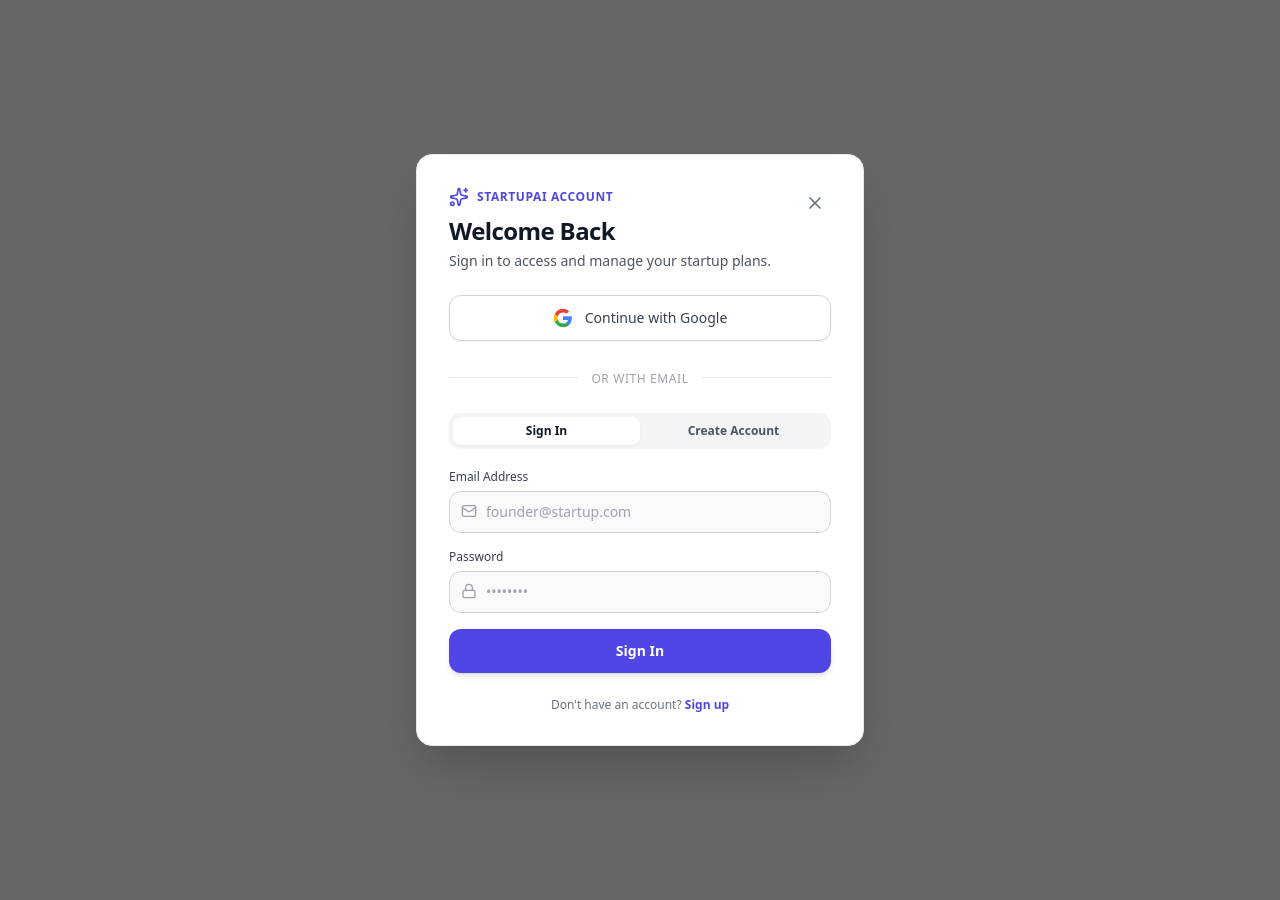
Test: AuthModal Component › displays validation error if email is invalid
Type "invalid-email" into the field labelled "Email Address". click: (640, 512)
box: top-left (449, 491), bottom-right (831, 533)
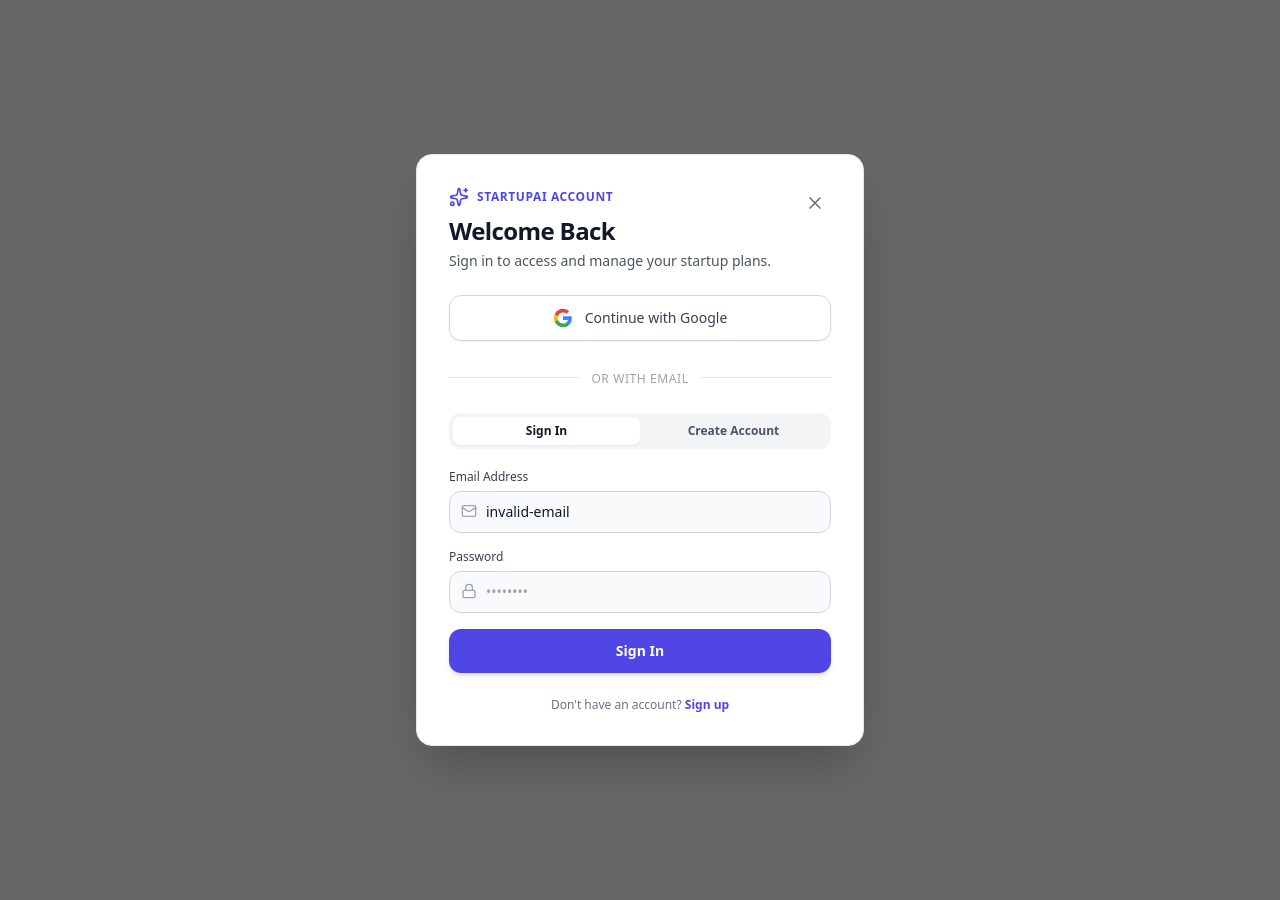
Type "12345678" into the password field labelled "Password". click: (640, 592)
box: top-left (449, 571), bottom-right (831, 613)
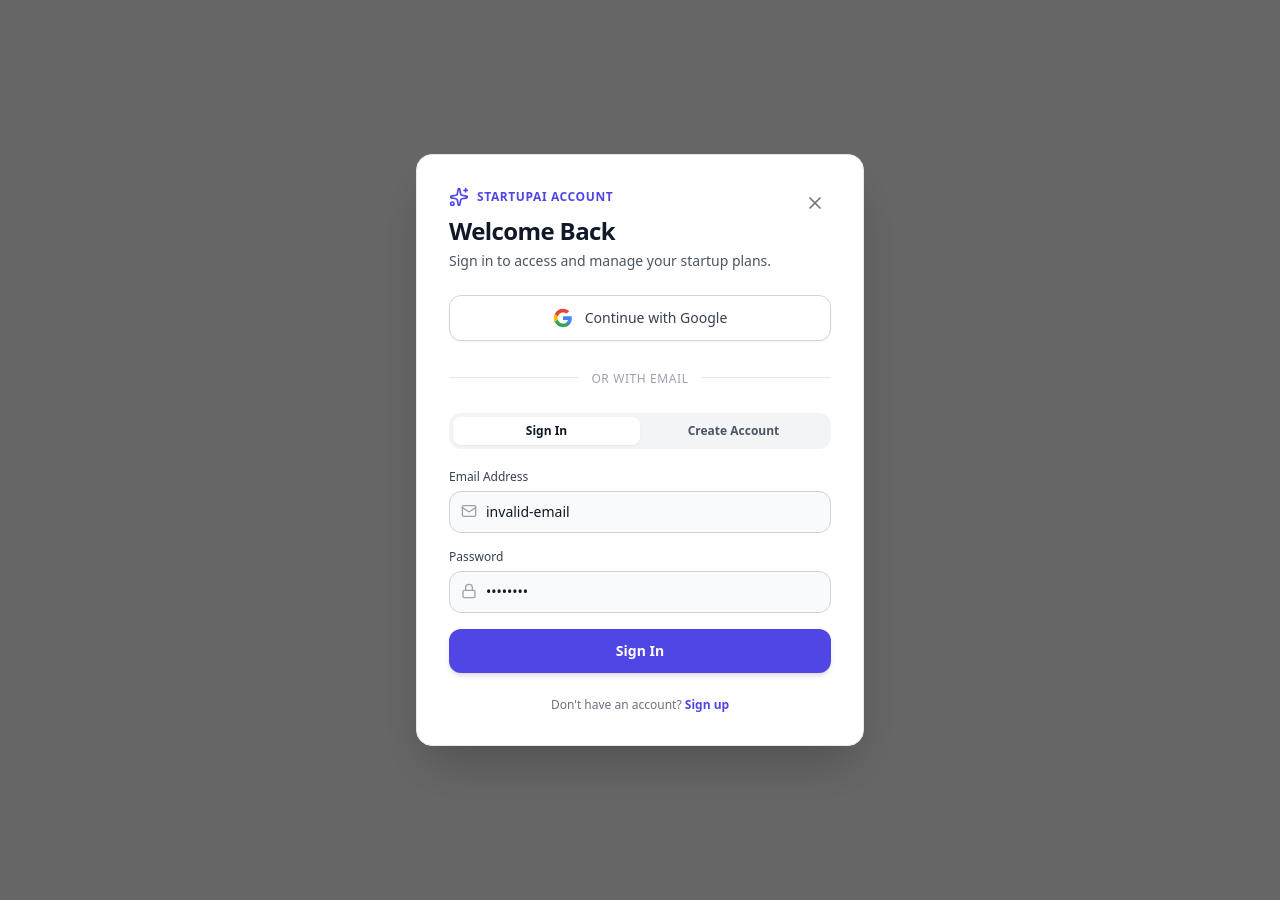
Click the button with test id "auth-submit-btn". click: (640, 651)
box: top-left (449, 629), bottom-right (831, 673)
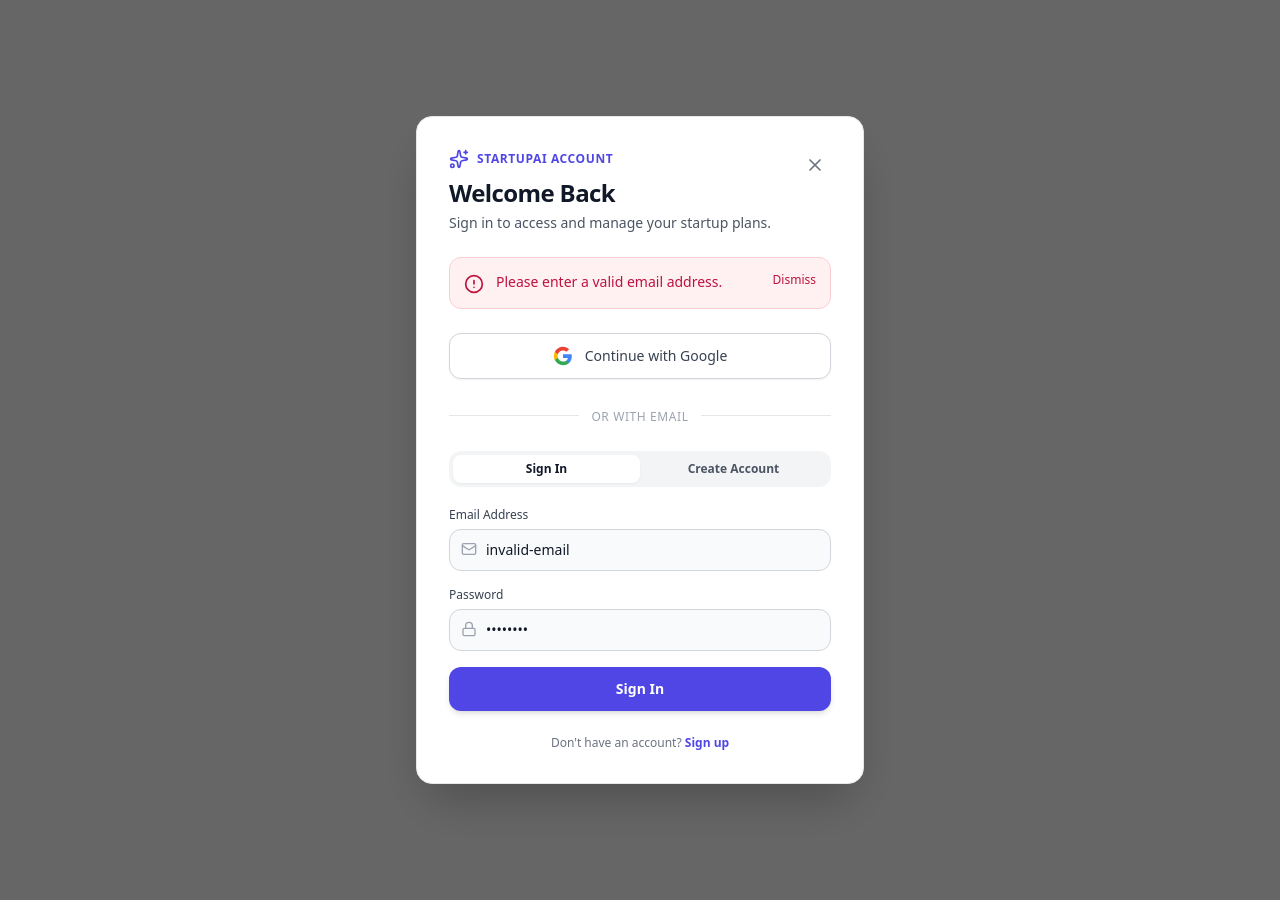
expect the text "Please enter a valid email address." is shown: met, box top-left (496, 272), bottom-right (761, 292)
